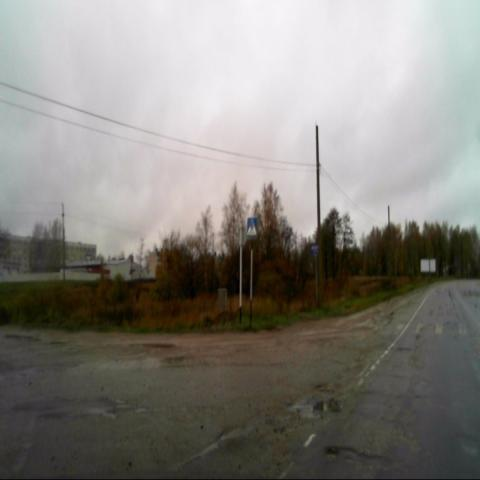5_19_1: (246, 216, 258, 239)
